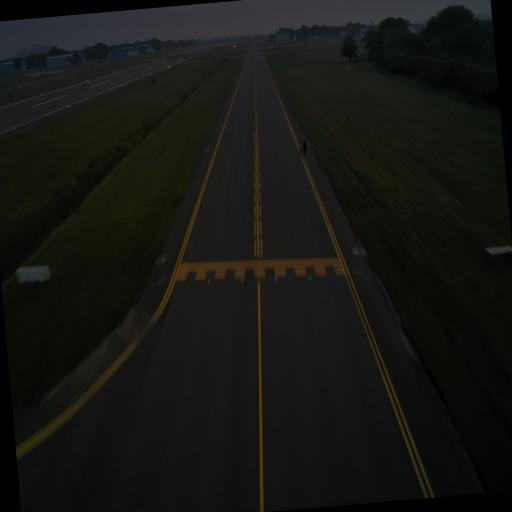off: (238, 276, 246, 286), (206, 276, 212, 288), (307, 274, 314, 284), (272, 275, 278, 286)
on: (160, 250, 165, 260), (354, 243, 358, 252), (206, 146, 210, 150), (305, 138, 307, 144)
